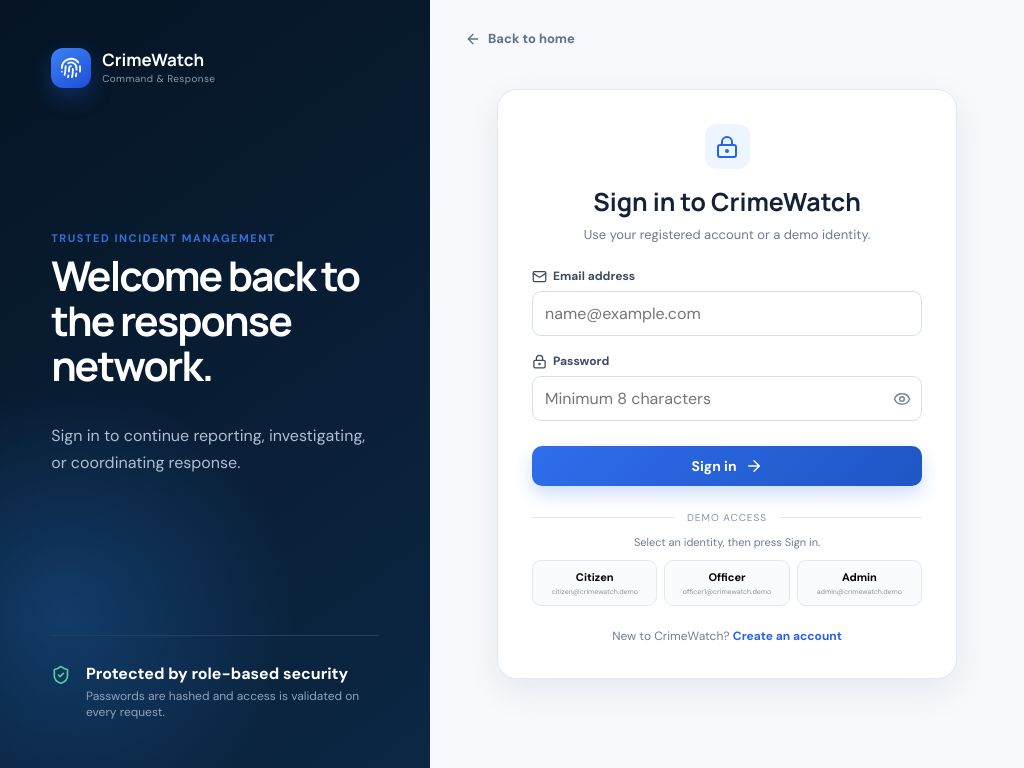
CrimeWatch public experience › fills demo credentials when a role is selected
The image size is (1024, 768).
Click the button "Admin admin@crimewatch.demo" at (859, 583), box left=797, top=560, right=922, bottom=606
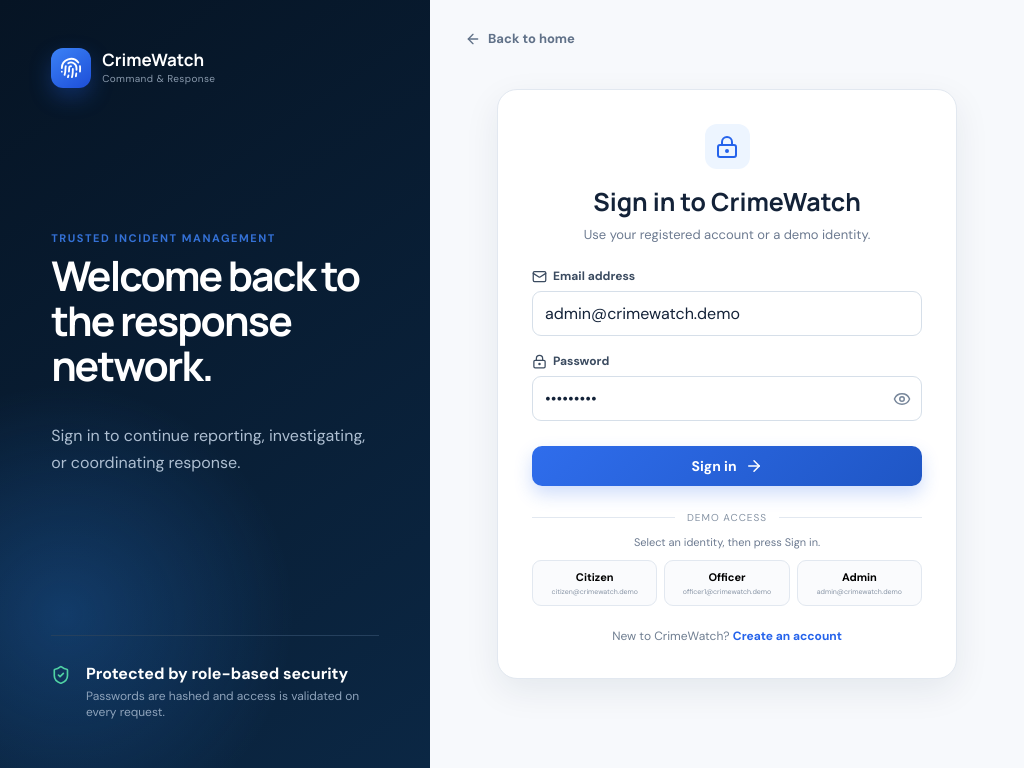
Expected: the field with placeholder "name@example.com" holds "admin@crimewatch.demo", left=532, top=291, right=922, bottom=336
Expected: the password field with placeholder "Minimum 8 characters" holds "Admin@123", left=532, top=376, right=922, bottom=421
